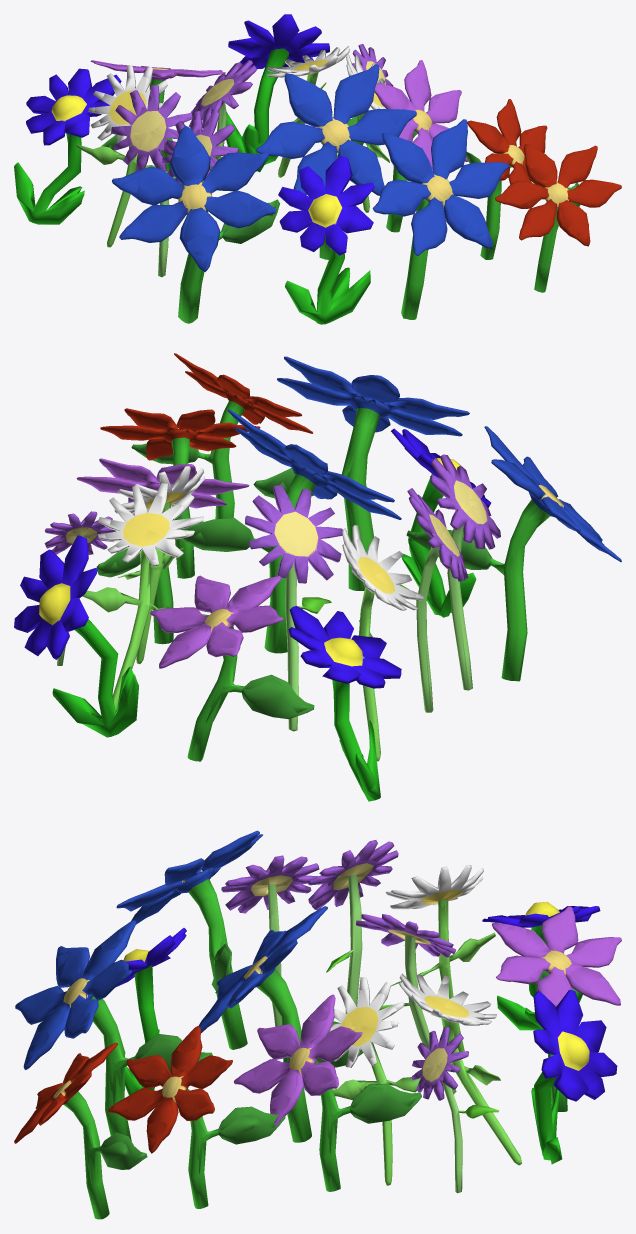
The model's file is jardin_flores-002.glb.
3 views of the same model, one above another, from view 1: azimuth 30°, elevation 25°; view 2: azimuth 150°, elevation 25°; view 3: azimuth 270°, elevation 25° (orthographic). The views are drawn at different scales.
Parts seen in each view (by area): view 1: Jardin_Flores_002_LOD0_1, Jardin_Flores_002_LOD1_0; view 2: Jardin_Flores_002_LOD0_1, Jardin_Flores_002_LOD1_0; view 3: Jardin_Flores_002_LOD0_1, Jardin_Flores_002_LOD1_0.
Boxes of the visible parts, x1=… form: Jardin_Flores_002_LOD0_1: x1=14, y1=15, x2=621, y2=324; Jardin_Flores_002_LOD1_0: x1=14, y1=14, x2=620, y2=324; Jardin_Flores_002_LOD0_1: x1=15, y1=353, x2=621, y2=801; Jardin_Flores_002_LOD1_0: x1=14, y1=353, x2=621, y2=800; Jardin_Flores_002_LOD0_1: x1=14, y1=831, x2=621, y2=1219; Jardin_Flores_002_LOD1_0: x1=14, y1=830, x2=621, y2=1219.
Size of the model in its own units: 19.84 by 8.45 by 20.5.
Materials: 15 (15 with a texture image).
